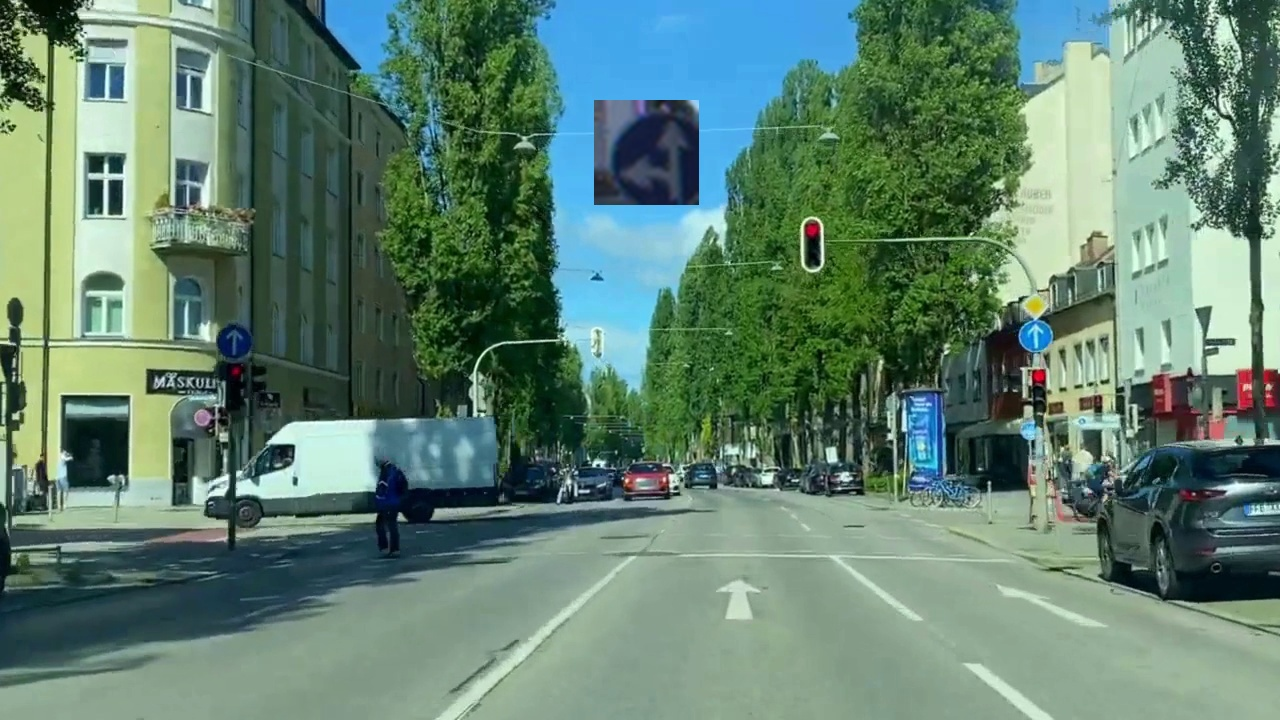Straight/left: (594, 100, 699, 205)
